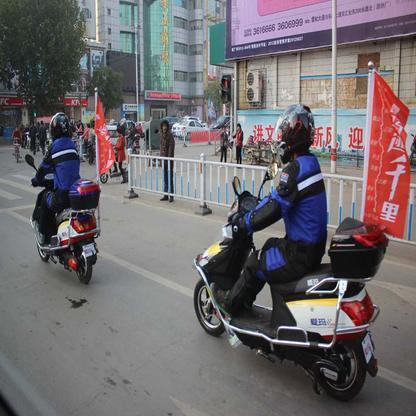target: (194, 101, 394, 398), (27, 110, 105, 291)
